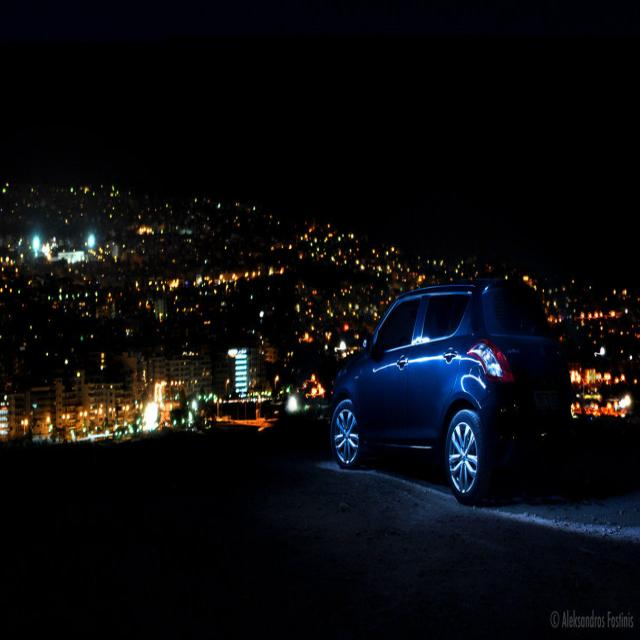Car: (329, 281, 572, 502)
